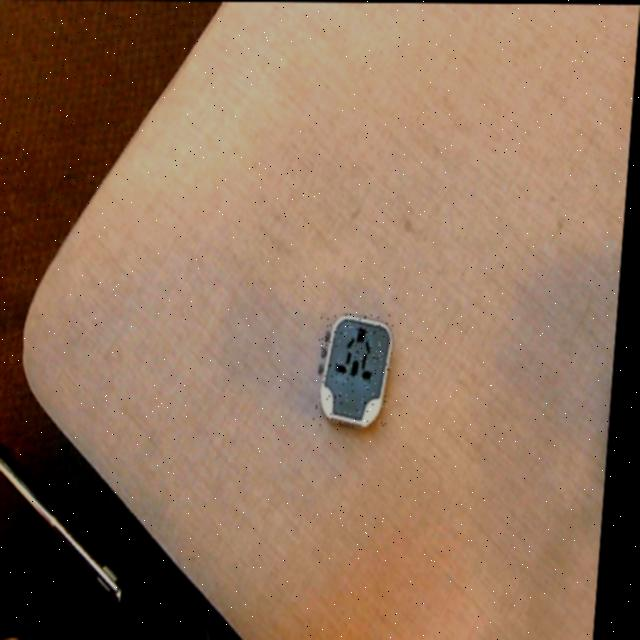adapter: (319, 313, 400, 427)
